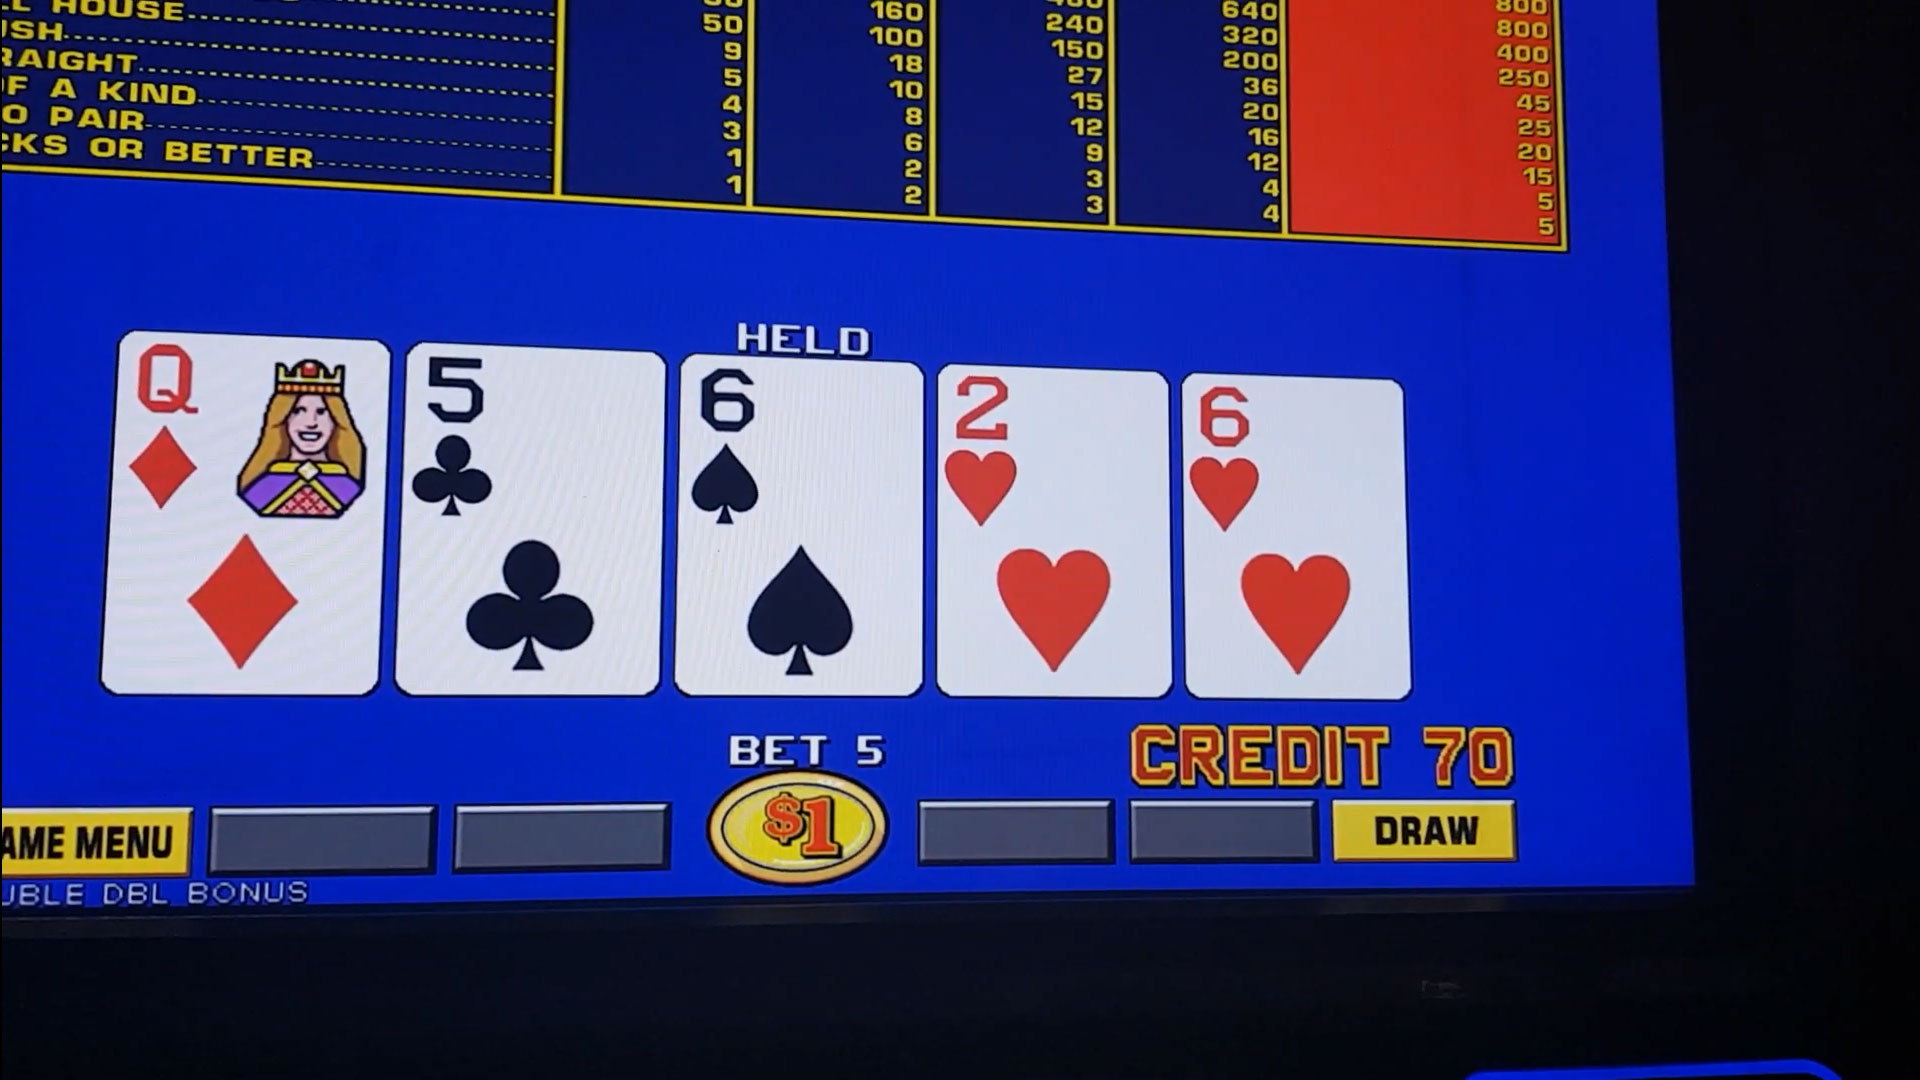C5: (411, 357, 659, 531)
DQ: (123, 344, 378, 518)
H2: (942, 377, 1167, 537)
H6: (1185, 378, 1400, 535)
S6: (688, 367, 915, 534)
